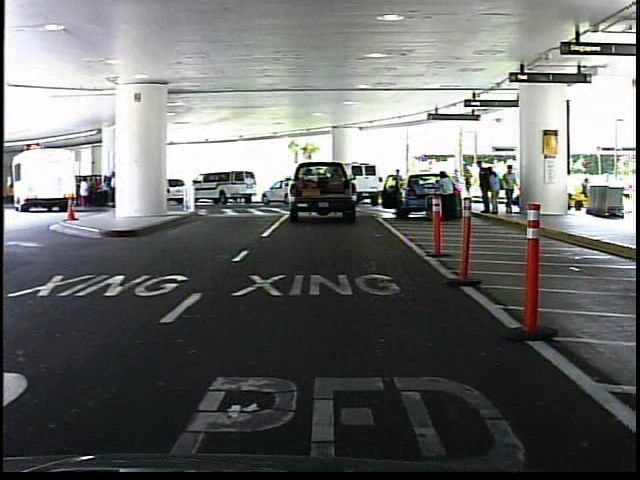person: (501, 159, 522, 217), (436, 163, 458, 218), (390, 165, 406, 205)
